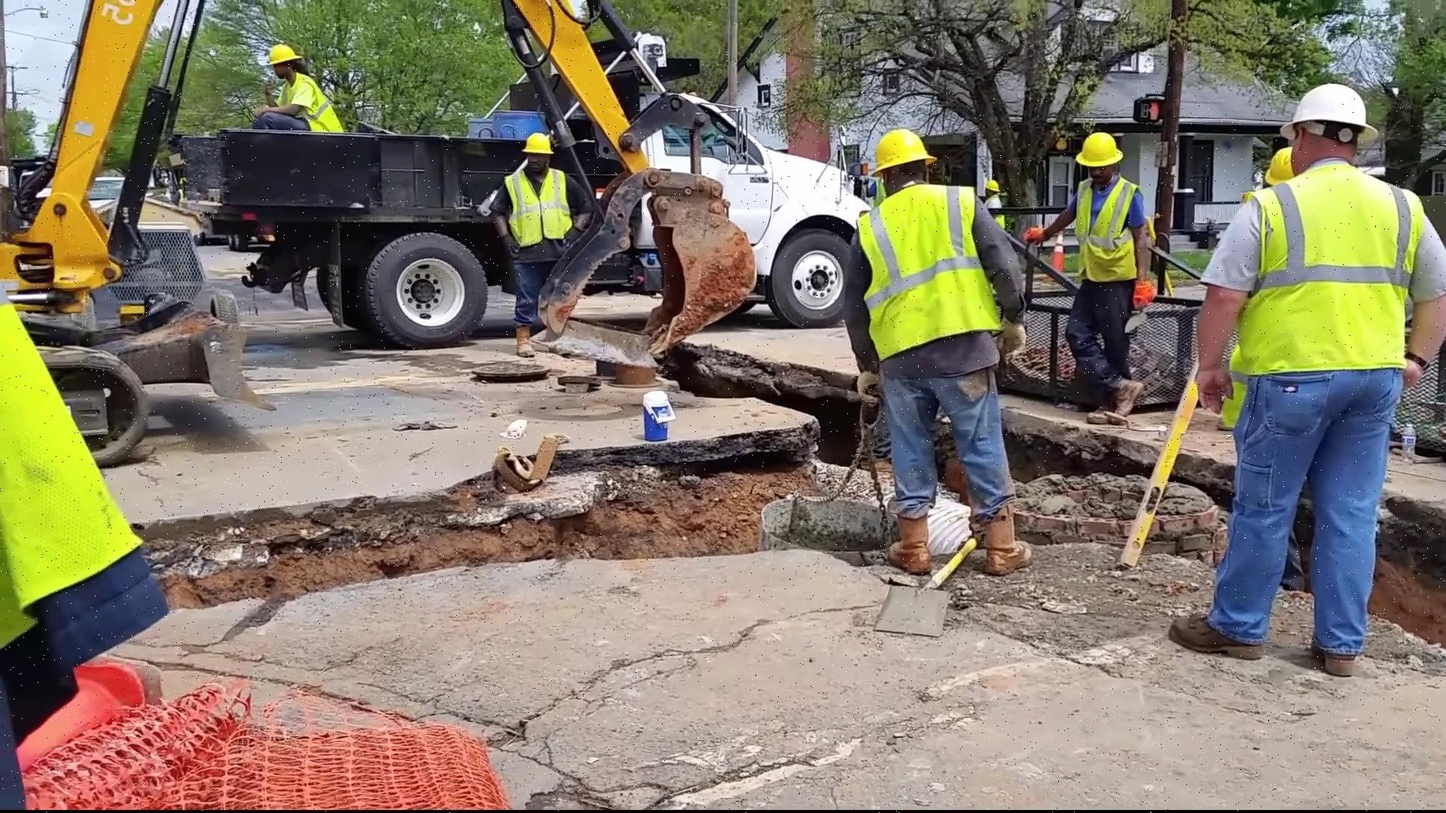Hard_hat: (1291, 70, 1388, 128), (856, 136, 937, 173), (1252, 138, 1305, 183), (258, 33, 305, 73), (516, 132, 573, 159), (1083, 134, 1122, 163)
Vest: (1227, 171, 1420, 376), (866, 183, 1000, 351), (1073, 172, 1144, 290), (501, 157, 574, 242), (268, 69, 345, 127)
